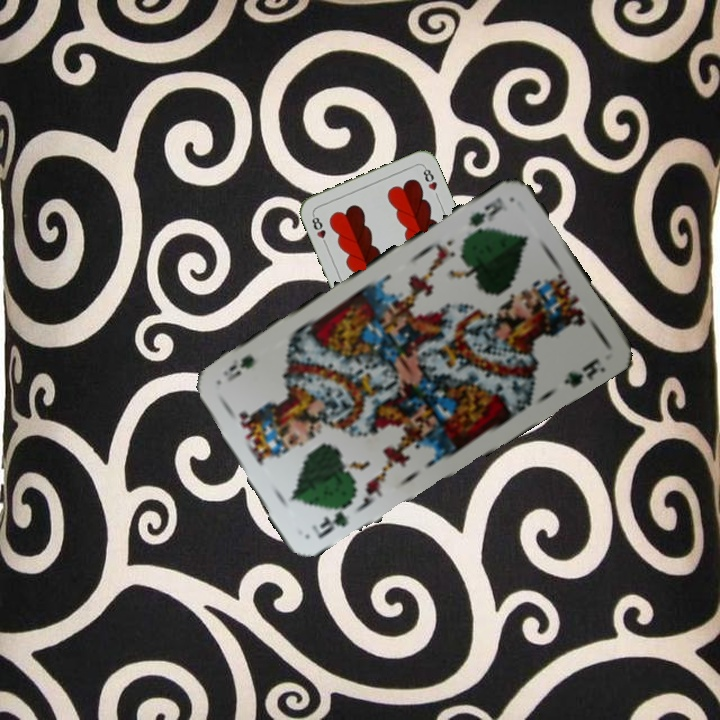GK: (463, 193, 507, 238), (314, 498, 356, 542)
H8: (308, 210, 330, 249)
